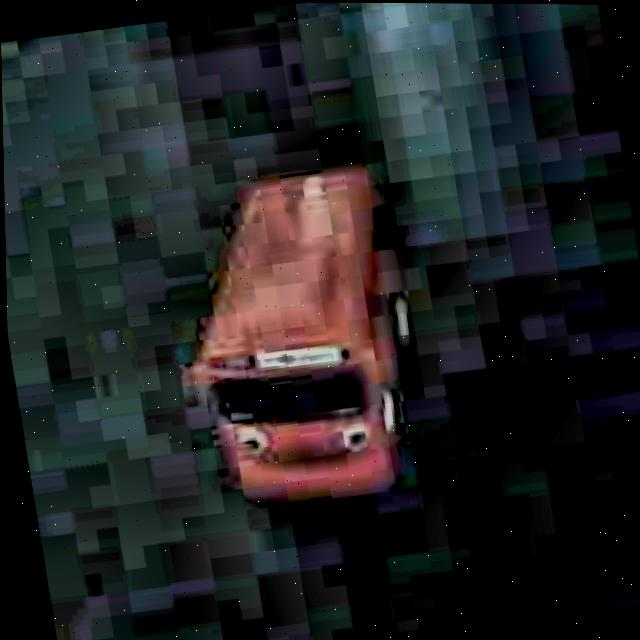bus: (146, 147, 450, 532)
